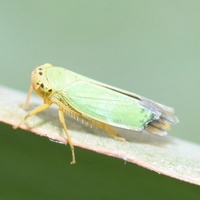insect: (14, 63, 178, 163)
